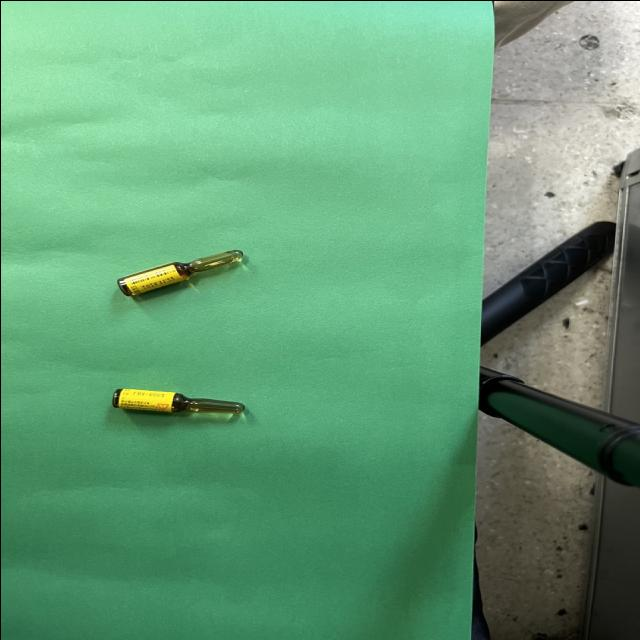Ampoules: (117, 249, 243, 296), (111, 388, 244, 414)
